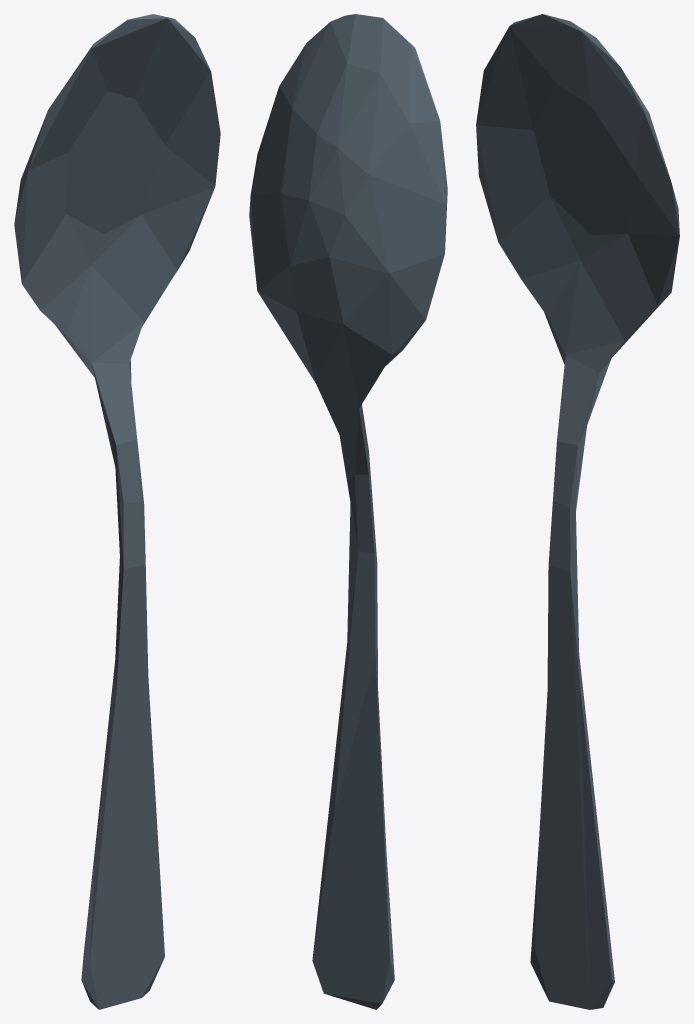
The model's file is Spoon02.fbx.
3 views of the same model, side by side, from view 1: azimuth 30°, elevation 25°; view 2: azimuth 150°, elevation 25°; view 3: azimuth 330°, elevation 25° (orthographic). The views are drawn at different scales.
Visible parts, largest first — view 1: Spoon02LowPoly; view 2: Spoon02LowPoly; view 3: Spoon02LowPoly.
Part boxes in pixels (x1,y1,x2,y2): Spoon02LowPoly: (14, 14, 220, 1009); Spoon02LowPoly: (249, 14, 447, 1009); Spoon02LowPoly: (476, 14, 679, 1009).
Bounding box in the file's own units: 2.51 × 11.95 × 1.12.
